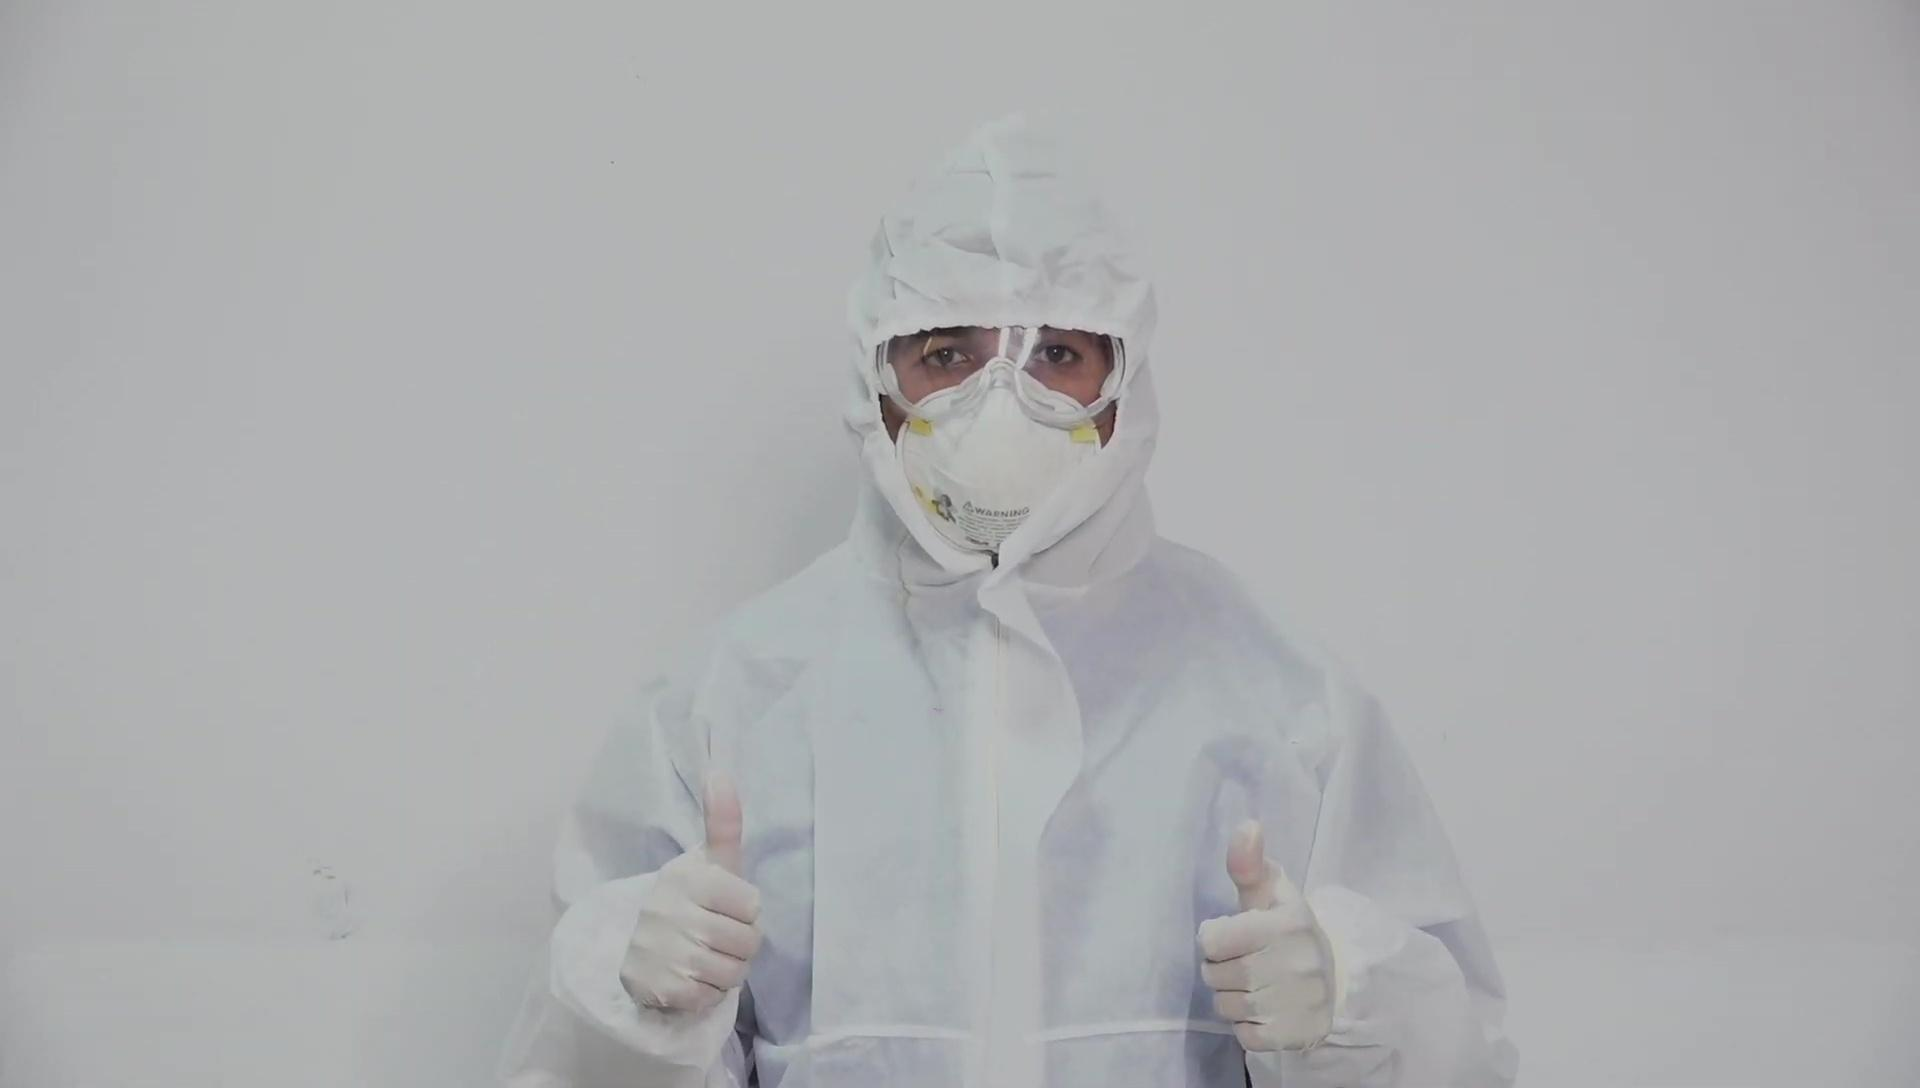Gloves: (618, 764, 764, 1013), (1192, 816, 1333, 1054), (874, 323, 1127, 430)
